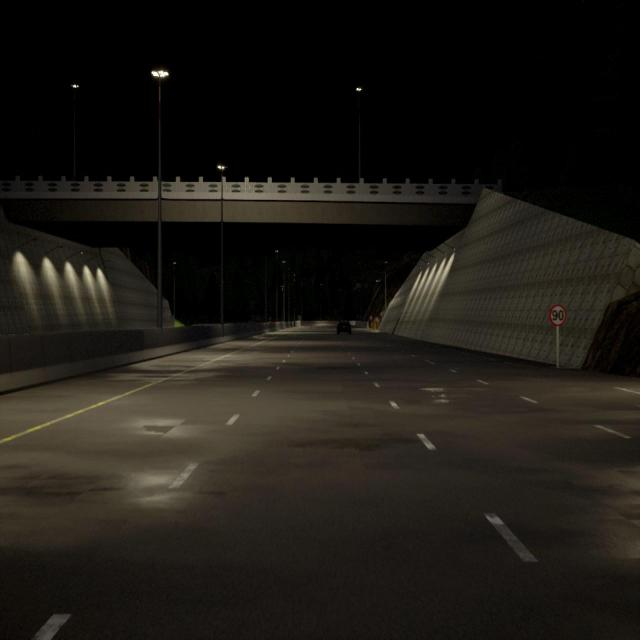Traffic_Signs: (549, 304, 566, 326), (370, 316, 372, 320)
Vehicle: (336, 320, 352, 334)
